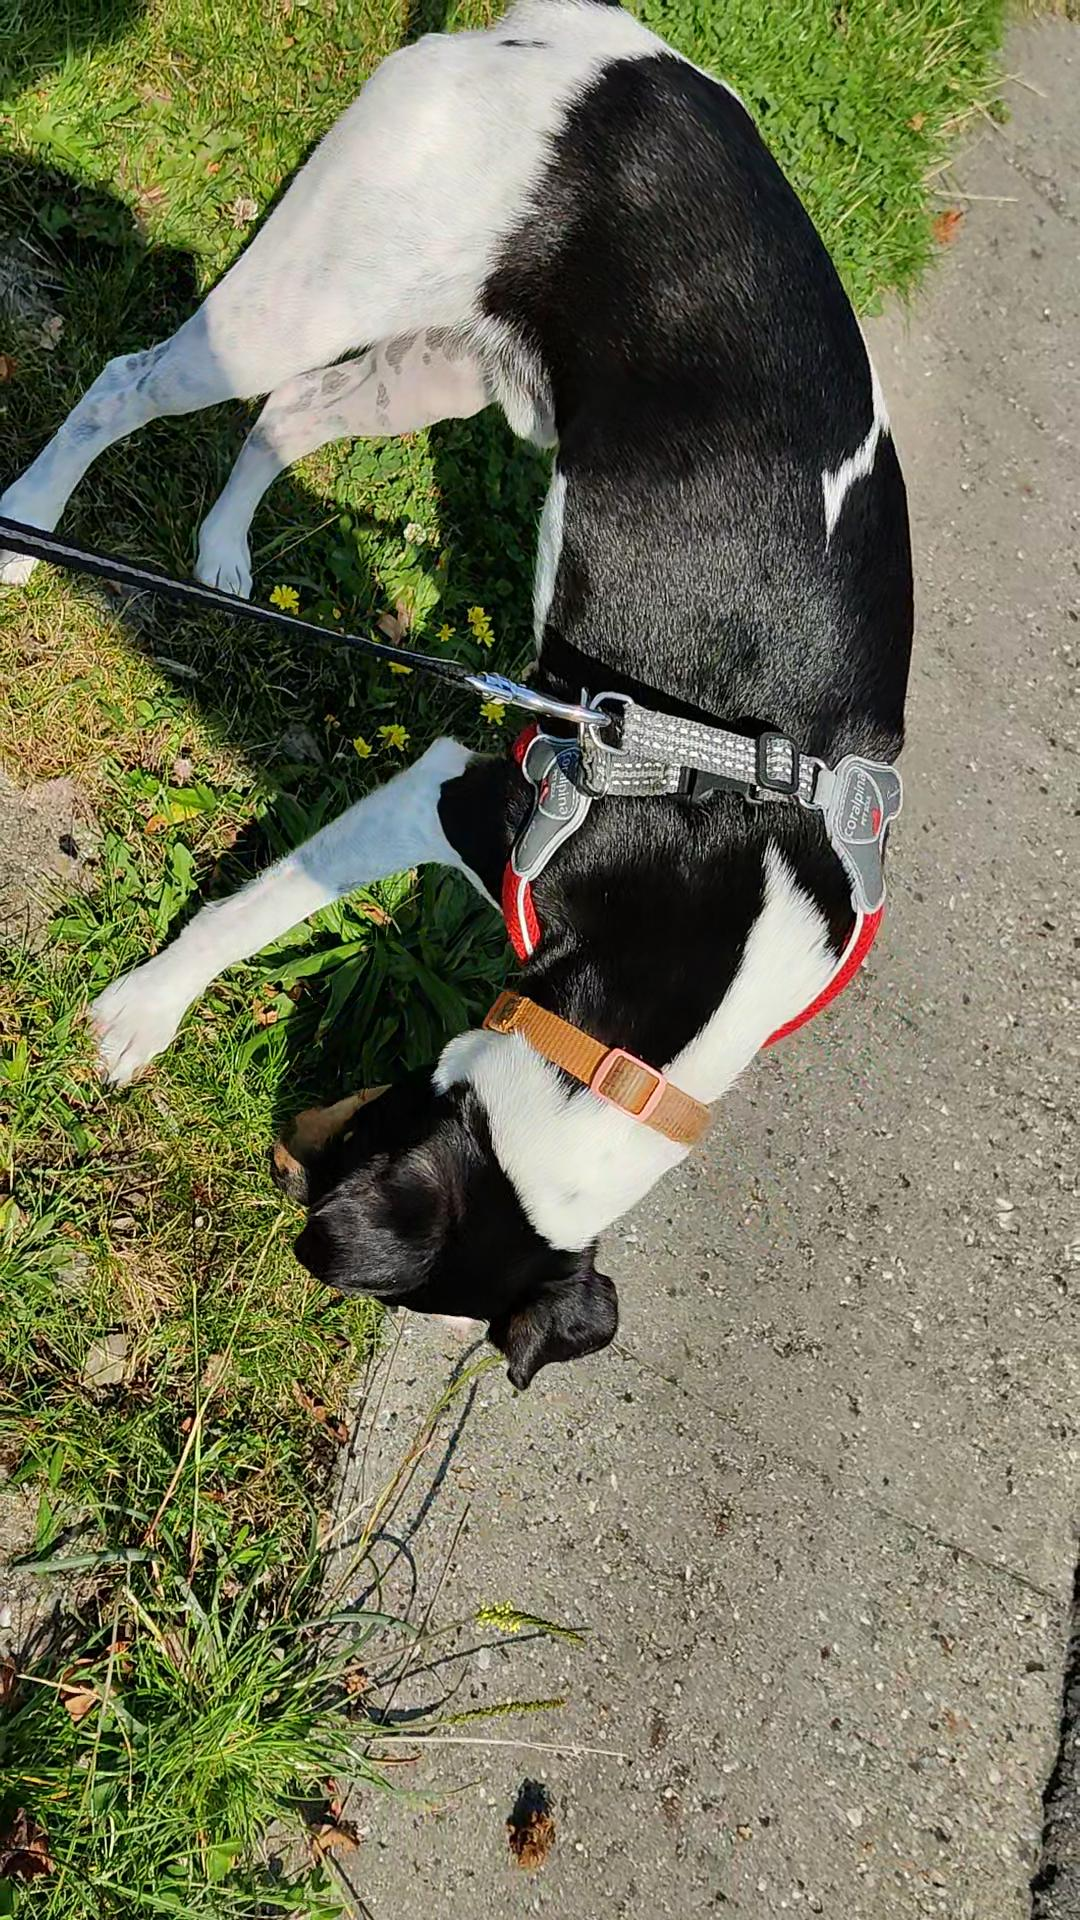Dog: (0, 0, 920, 1393)
